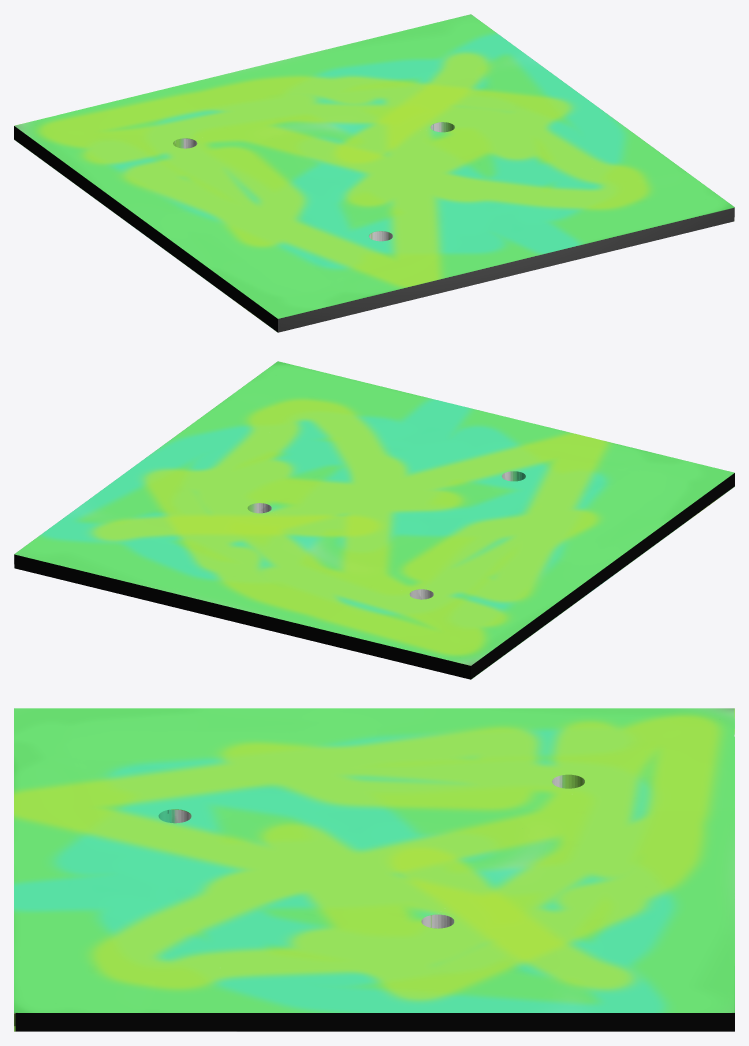
The model's file is GameZoneGroundLevel_01.dae.
3 renders of one model, top to bottom at view 1: azimuth 30°, elevation 25°; view 2: azimuth 150°, elevation 25°; view 3: azimuth 270°, elevation 25°, orthographic. The views are drawn at different scales.
Visible parts, largest first — view 1: Ground; view 2: Ground; view 3: Ground.
Part boxes in pixels (bbox=[...]): Ground: bbox=[14, 14, 734, 332]; Ground: bbox=[14, 361, 734, 679]; Ground: bbox=[14, 708, 734, 1031].
Bounding box in the file's own units: 12.87 × 12.87 × 0.3729.
Materials: 1 (1 with a texture image).
